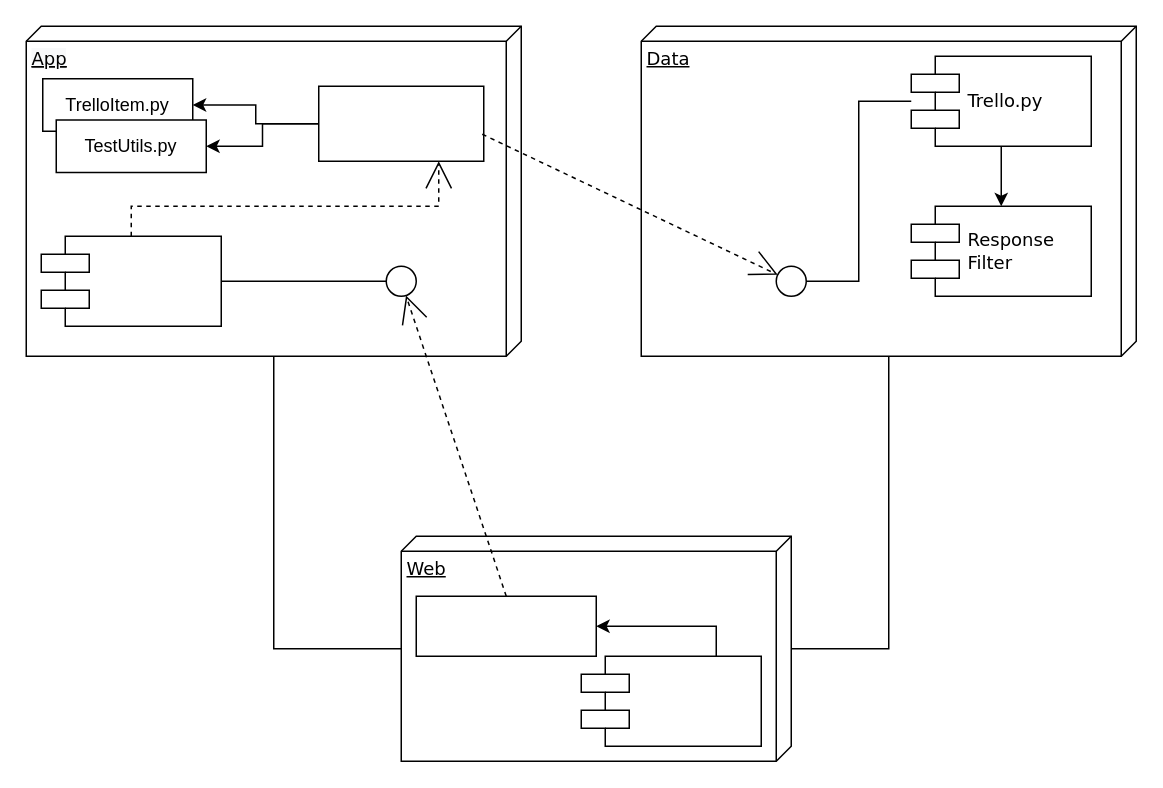
Some shapes in this 1163 by 788 pixel diagram are drawn without their labels. The shapes that lost their labels are listed below. From the top down, each one's centre as x and y in pixels, then its label:
At (400,123): "app.py".
At (130,280): "Todo".
At (505,625): "Index.html".
At (670,700): "Templates".
